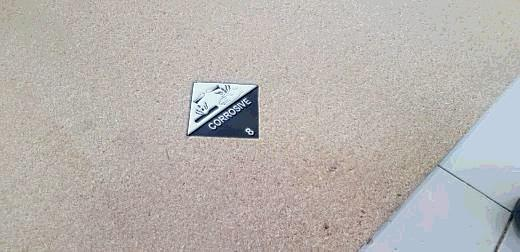corrosive: (186, 83, 261, 140)
